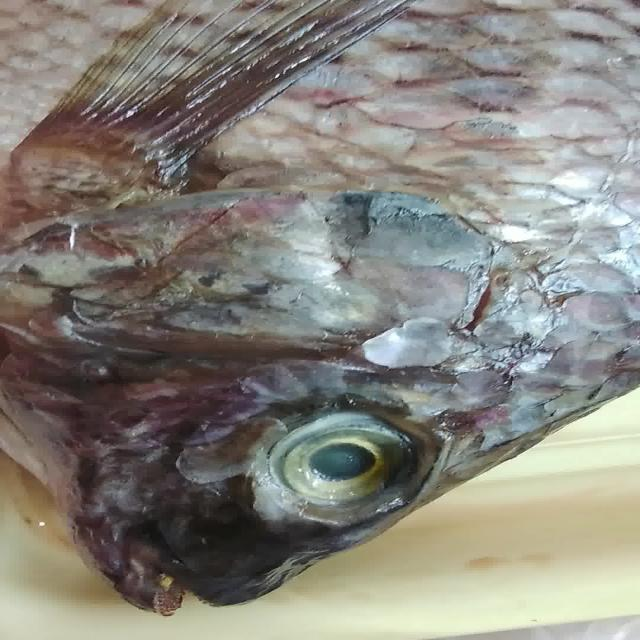Non-Fresh: (18, 8, 630, 371), (253, 393, 444, 531)
